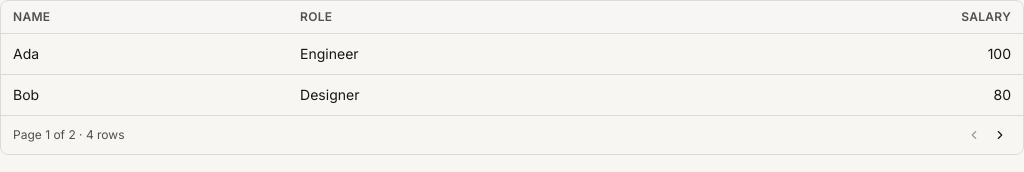
it: DataGrid › paginates correctly with pageSize smaller than row count
Expected: the text "Carol" is not shown
// Click next page.
Click the button named "Next page": click(1000, 135) [989, 124, 1011, 146]
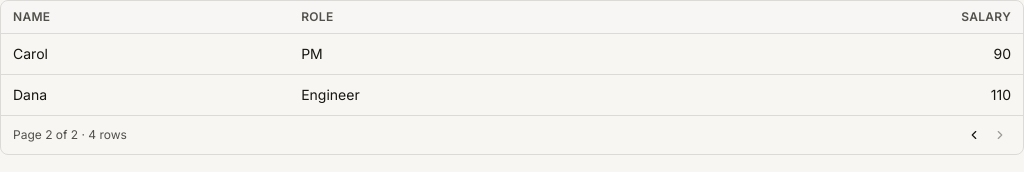
Expected: the text "Page 2 of 2" is shown, [13, 127, 127, 142]
Expected: the text "Carol" is shown, [1, 34, 289, 74]
